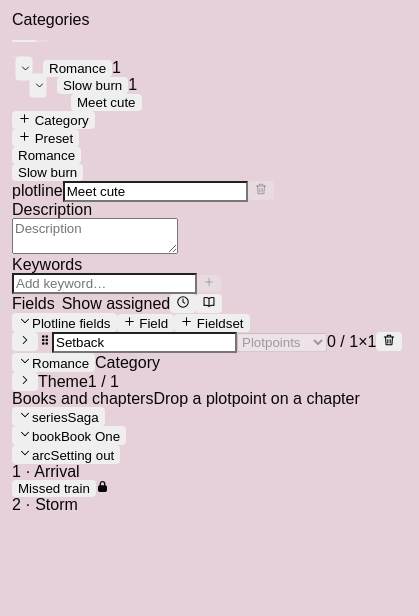
Test case: the eye › shows a lock, not an eye, for a plotpoint placed on an act
Click the button named "Expand Setback" at coordinates (25, 342), box top-left (12, 332), bottom-right (38, 351)
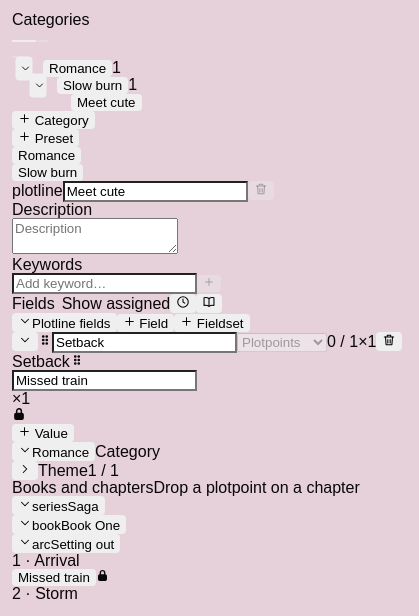
Result: the 1st element with class "wrPlotValueLock" is shown at top-left (12, 407), bottom-right (26, 424)
